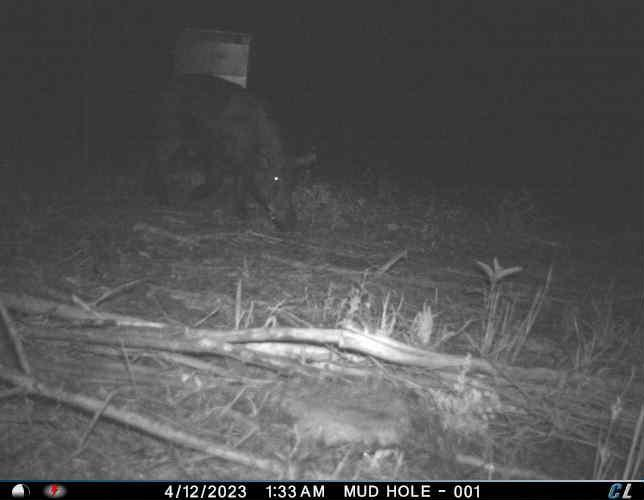Hog: (139, 73, 319, 231)
